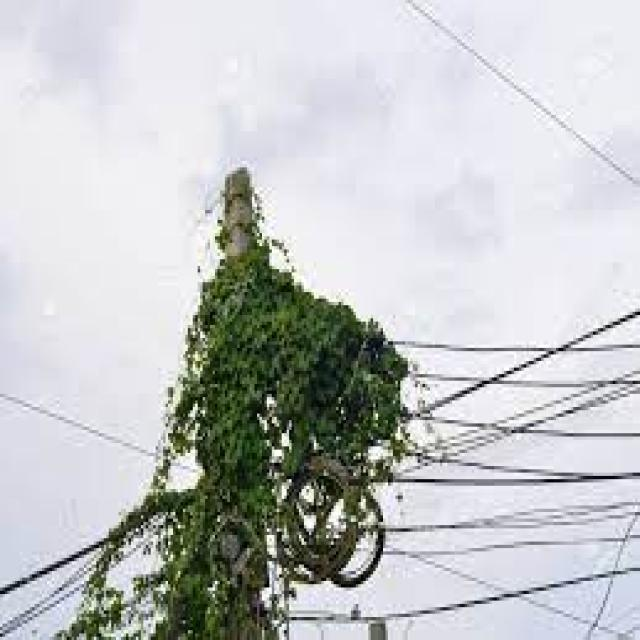critical vegetation: (150, 153, 439, 620)
